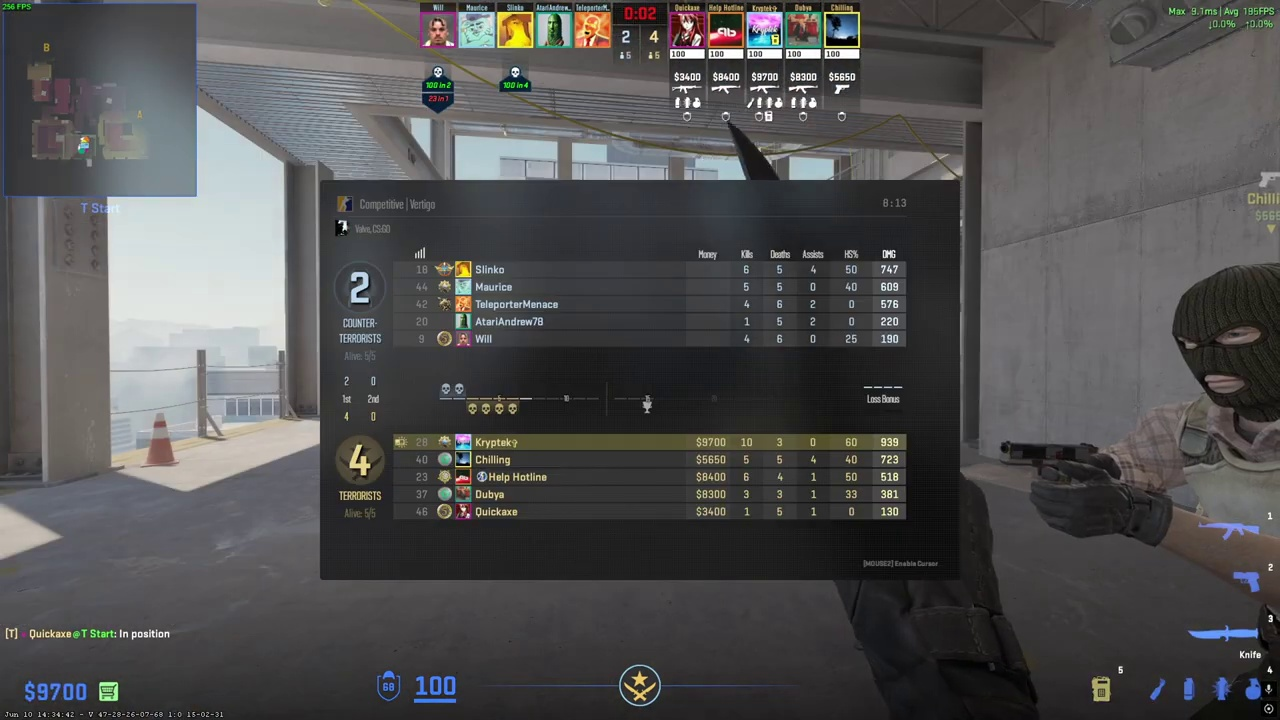Terrorist: (1127, 263, 1280, 719)
